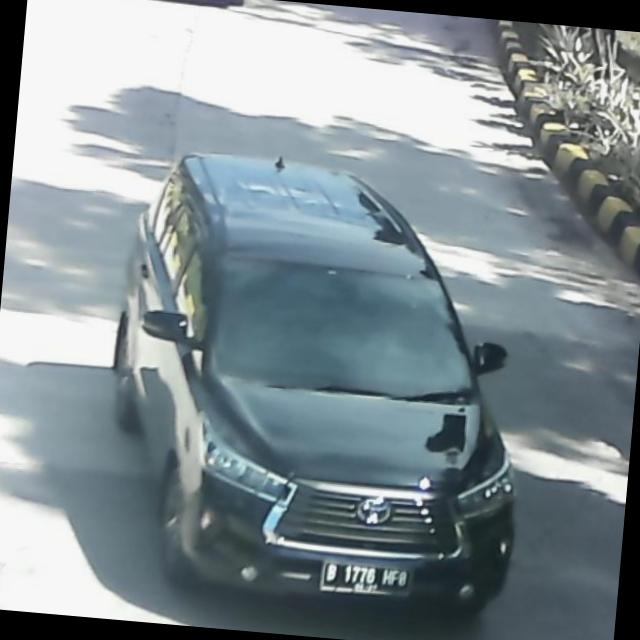plate: (318, 555, 418, 599)
